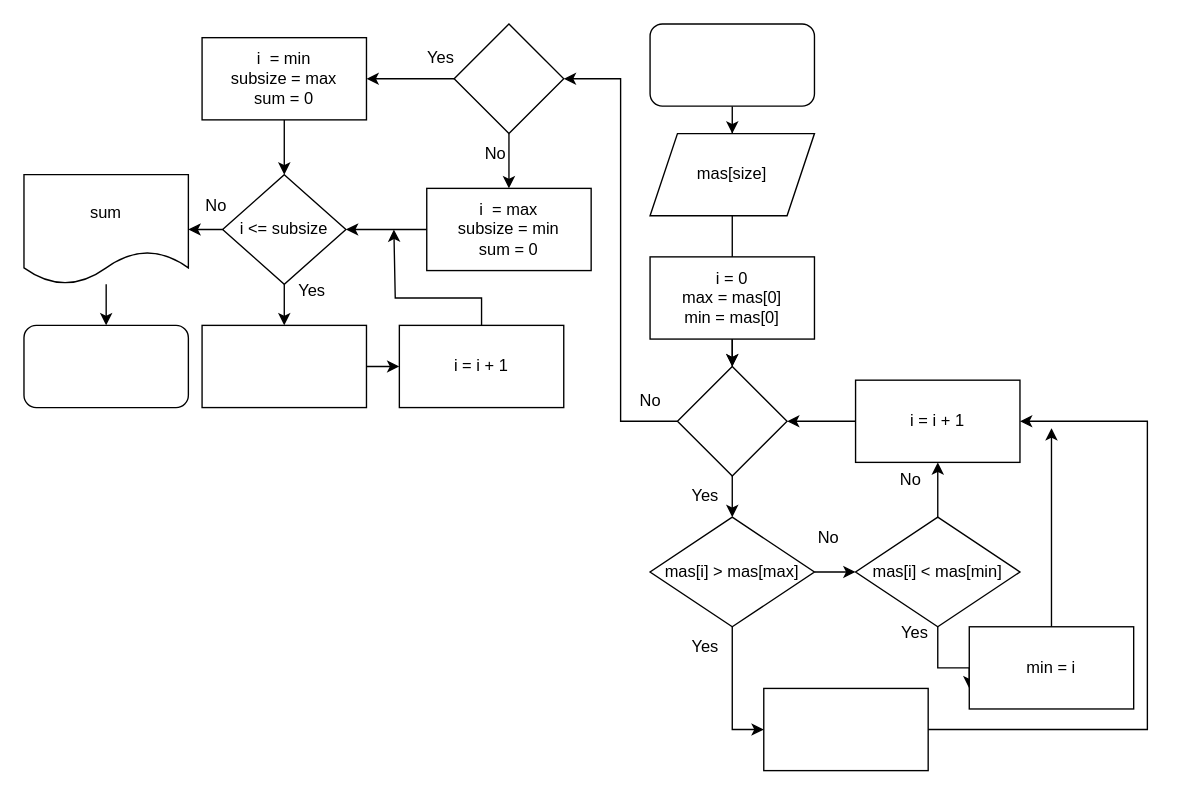
Some shapes in this 1182 by 795 pixel diagram are drawn without their labels. The shapes that lost their labels are listed below. From the top down, each one's box as (x1, y1, x2, y2) in pixels, then its label:
(453, 23, 564, 134): max > min
(649, 23, 814, 106): Start
(23, 324, 188, 408): Finish
(201, 324, 366, 408): sum = sum + mas[i]
(676, 365, 787, 476): i < size
(762, 687, 928, 771): max = i
